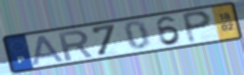0: (123, 19, 152, 51)
6: (156, 15, 183, 47)
7: (90, 24, 120, 58)
A: (32, 34, 67, 67)
P: (180, 9, 214, 45)
R: (57, 29, 95, 62)
